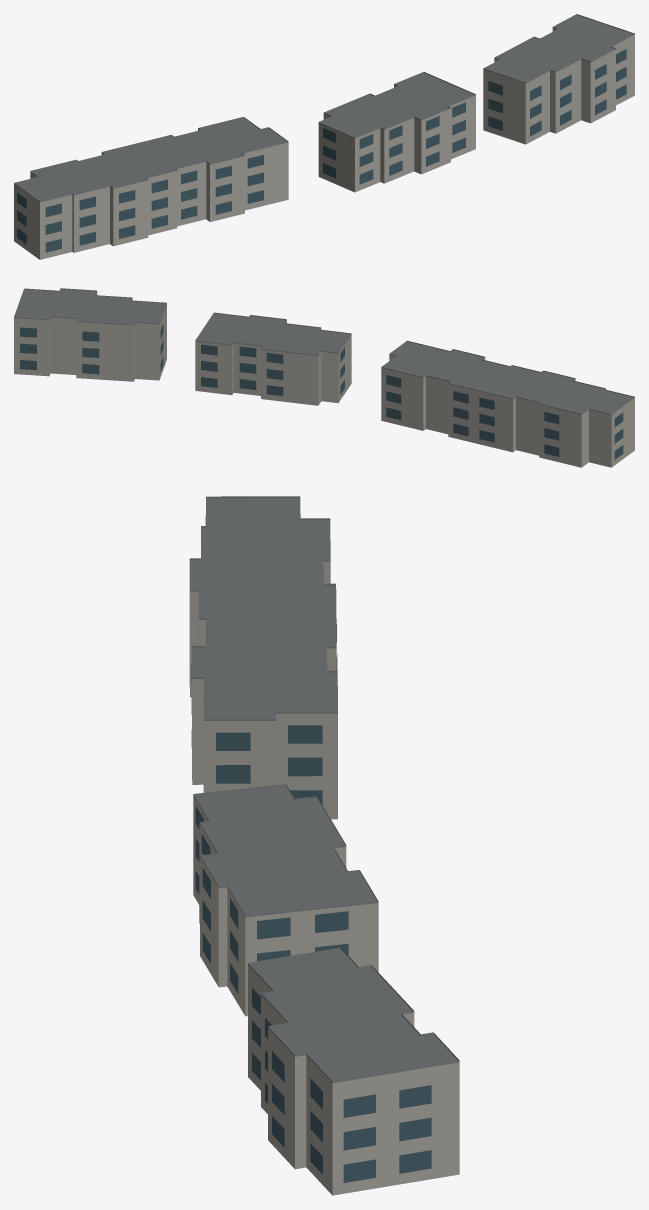
3 views of the same model, one above another, from view 1: azimuth 30°, elevation 25°; view 2: azimuth 150°, elevation 25°; view 3: azimuth 270°, elevation 25° (orthographic). The views are drawn at different scales.
Visible parts, largest first — view 1: Buildings (-7, 5) Architectural concrete, Buildings (-7, 5) Roof membrane, Buildings (-7, 5) Architectural tinted glass, Buildings (-7, 5) Metal coping; view 2: Buildings (-7, 5) Architectural concrete, Buildings (-7, 5) Roof membrane, Buildings (-7, 5) Architectural tinted glass, Buildings (-7, 5) Metal coping; view 3: Buildings (-7, 5) Roof membrane, Buildings (-7, 5) Architectural concrete, Buildings (-7, 5) Architectural tinted glass, Buildings (-7, 5) Metal coping.
Part boxes in pixels (x1,y1,x2,y2): Buildings (-7, 5) Architectural concrete: [14, 28, 634, 259]; Buildings (-7, 5) Roof membrane: [15, 15, 633, 201]; Buildings (-7, 5) Architectural tinted glass: [17, 49, 626, 252]; Buildings (-7, 5) Metal coping: [14, 14, 634, 202]; Buildings (-7, 5) Architectural concrete: [14, 291, 634, 467]; Buildings (-7, 5) Roof membrane: [14, 289, 633, 413]; Buildings (-7, 5) Architectural tinted glass: [20, 324, 623, 459]; Buildings (-7, 5) Metal coping: [14, 288, 634, 414]; Buildings (-7, 5) Roof membrane: [189, 498, 457, 1081]; Buildings (-7, 5) Architectural concrete: [189, 524, 459, 1195]; Buildings (-7, 5) Architectural tinted glass: [191, 515, 431, 1182]; Buildings (-7, 5) Metal coping: [189, 496, 459, 1083].
Size of the model in its own units: 112 by 12.35 by 22.62.
